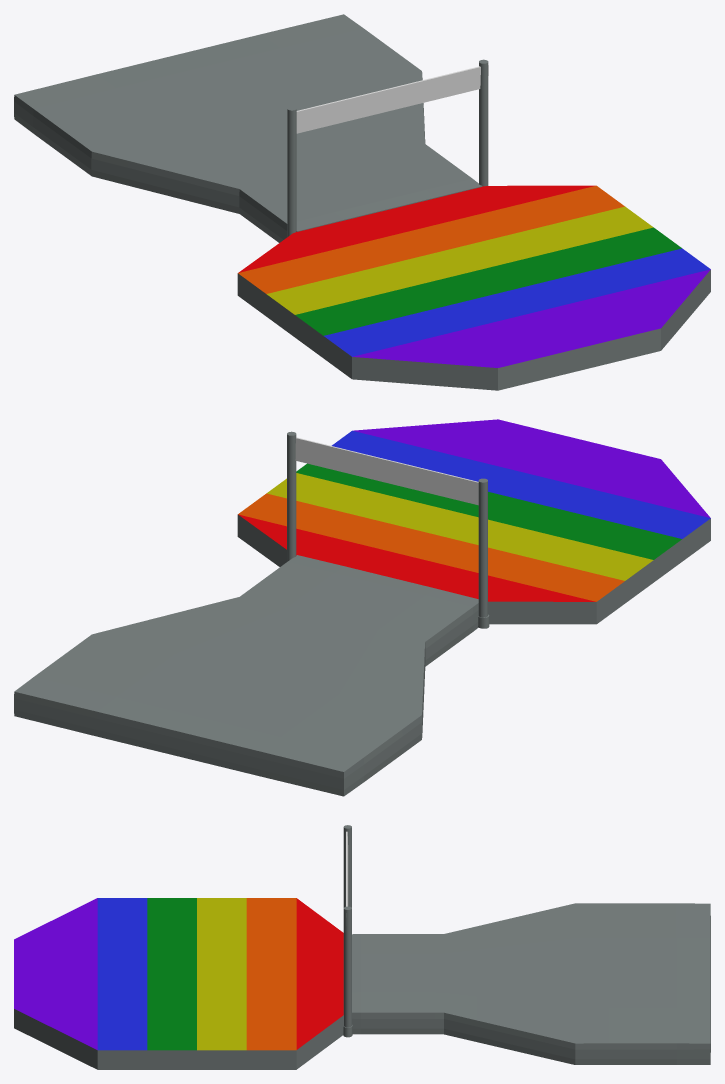
Rendered from finish-plat.fbx.
3 renders of one model, top to bottom at view 1: azimuth 30°, elevation 25°; view 2: azimuth 150°, elevation 25°; view 3: azimuth 270°, elevation 25°, orthographic. The views are drawn at different scales.
Parts seen in each view (by area): view 1: finish-plat; view 2: finish-plat; view 3: finish-plat.
Boxes of the visible parts, x1,y1,x2,y2 form: finish-plat: (14,14,710,390); finish-plat: (14,419,710,796); finish-plat: (14,825,710,1069).
Size of the model in its own units: 3331 by 1306 by 6442.
